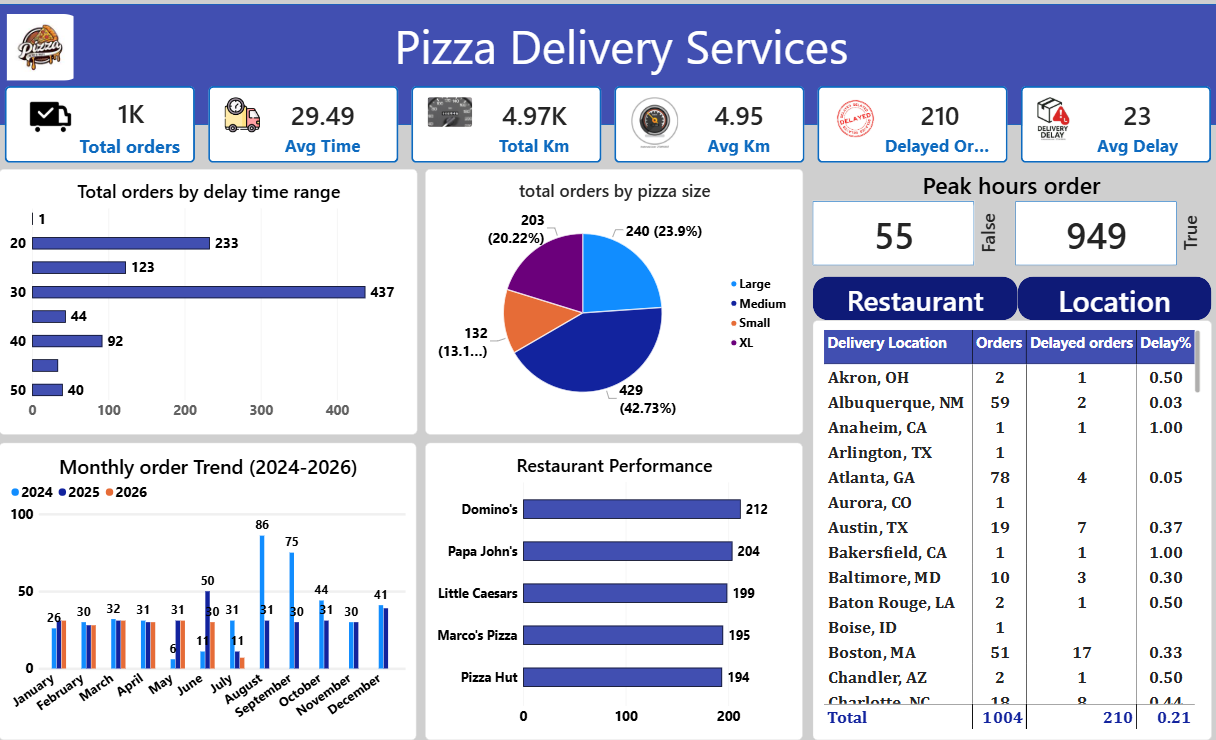

What the dashboard file says about the page in this screenshot:
{"tool":"powerbi","page":{"name":"Page 1","canvas":[1924,1164],"ordinal":0},"visuals":[{"type":"shape","box":[4.3,15.2,1917.1,188.7],"z":0},{"type":"cardVisual","fields":{"Data":["_measures.total orders","_measures.average delivery duration","_measures.total km","_measures.avg km","_measures.delayed_order","_measures.average delay minutes"]},"box":[15.2,134.5,1908.4,138.8],"z":1000},{"type":"clusteredBarChart","title":"Restaurant Performance","fields":{"Category":["Sheet1.Restaurant Name"],"Y":["_measures.total orders"]},"box":[680.7,700.2,589,464.2],"z":2000},{"type":"image","box":[4.3,30.4,151.8,104.1],"z":3000},{"type":"textbox","box":[553,30.4,1162.4,119.3],"z":4000},{"type":"barChart","title":"Total orders by delay time range","fields":{"Category":["Sheet1.Delivery Duration"],"Y":["_measures.total orders"]},"box":[15.2,273.3,652.8,414.2],"z":5000},{"type":"actionButton","title":"restaurant button","box":[1285.3,440.8,319.9,68.3],"z":7000},{"type":"tableEx","title":"location table","fields":{"Values":["Sheet1.Location","_measures.total orders","_measures.delayed_order","_measures.delay rate%"]},"box":[1285.3,509.1,622.2,655.3],"z":8000},{"type":"actionButton","title":"location button","box":[1605.2,440.8,302.3,68.3],"z":9000},{"type":"clusteredColumnChart","title":"Monthly order Trend (2024-2026)","fields":{"Category":["calender.Month"],"Series":["calender.year"],"Y":["_measures.total orders"]},"box":[15.6,700.2,651.4,464.2],"z":10000},{"type":"pieChart","title":"total orders by pizza size","fields":{"Category":["Sheet1.Pizza Size"],"Y":["_measures.total orders"]},"box":[681,273.3,589.9,414.2],"z":11000},{"type":"cardVisual","title":"Peak hours order","fields":{"Data":["_measures.total orders"],"Rows":["Sheet1.Is Peak Hour"]},"box":[1286,273.3,620.2,151.8],"z":12000}]}

Visuals, with their boxes in screenshot pixels (x1, y1, x2, y2), scaled from the page's 1924x1164 canvas onto the 1216x740 screenshot:
shape: x1=3, y1=10, x2=1214, y2=130
cardVisual - _measures.total orders x _measures.average delivery duration: x1=10, y1=86, x2=1215, y2=174
"Restaurant Performance" clusteredBarChart: x1=430, y1=445, x2=802, y2=739
image: x1=3, y1=19, x2=99, y2=86
textbox: x1=350, y1=19, x2=1084, y2=95
"Total orders by delay time range" barChart: x1=10, y1=174, x2=422, y2=437
"restaurant button" actionButton: x1=812, y1=280, x2=1015, y2=324
"location table" tableEx: x1=812, y1=324, x2=1206, y2=739
"location button" actionButton: x1=1015, y1=280, x2=1206, y2=324
"Monthly order Trend (2024-2026)" clusteredColumnChart: x1=10, y1=445, x2=422, y2=739
"total orders by pizza size" pieChart: x1=430, y1=174, x2=803, y2=437
"Peak hours order" cardVisual: x1=813, y1=174, x2=1205, y2=270
